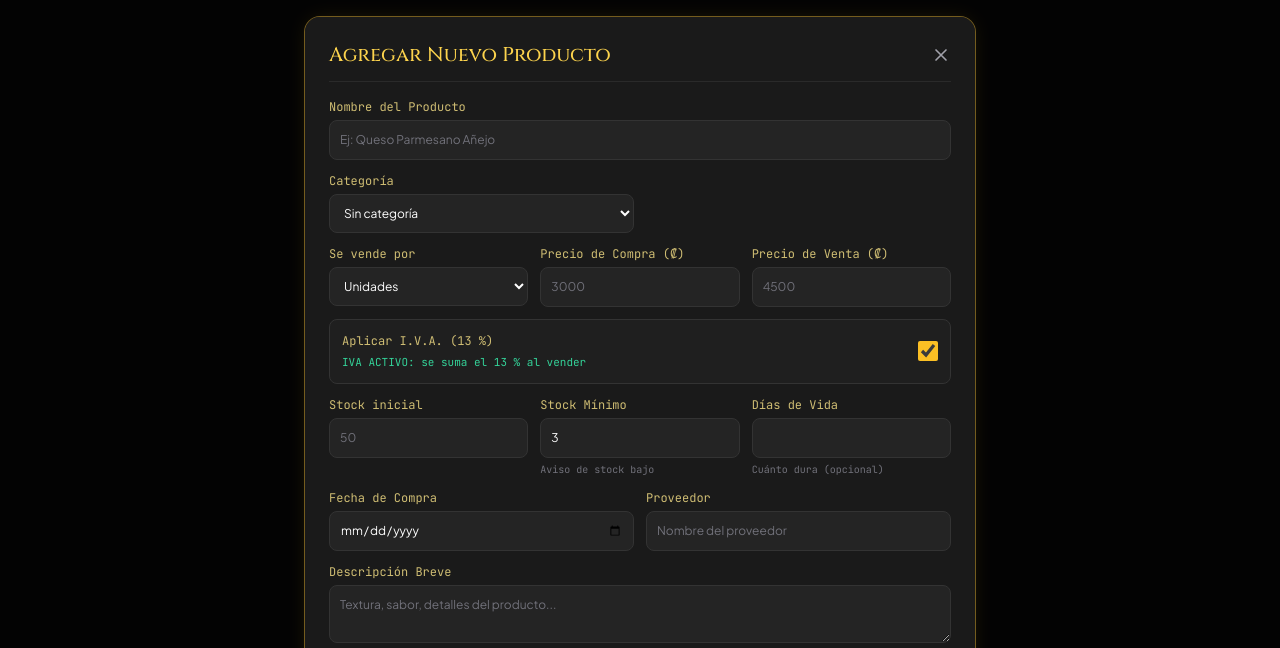
ProductModal (IVA, categorías y unidades) › permite activar/desactivar IVA y abrir "Agregar nueva categoría"
Expected: the text with test id "estado-iva" shows "IVA ACTIVO", x1=342 y1=355 x2=586 y2=369
Click the switch labelled "Aplicar I.V.A. (13 %)".
click(928, 351)  # box x1=918 y1=341 x2=938 y2=361
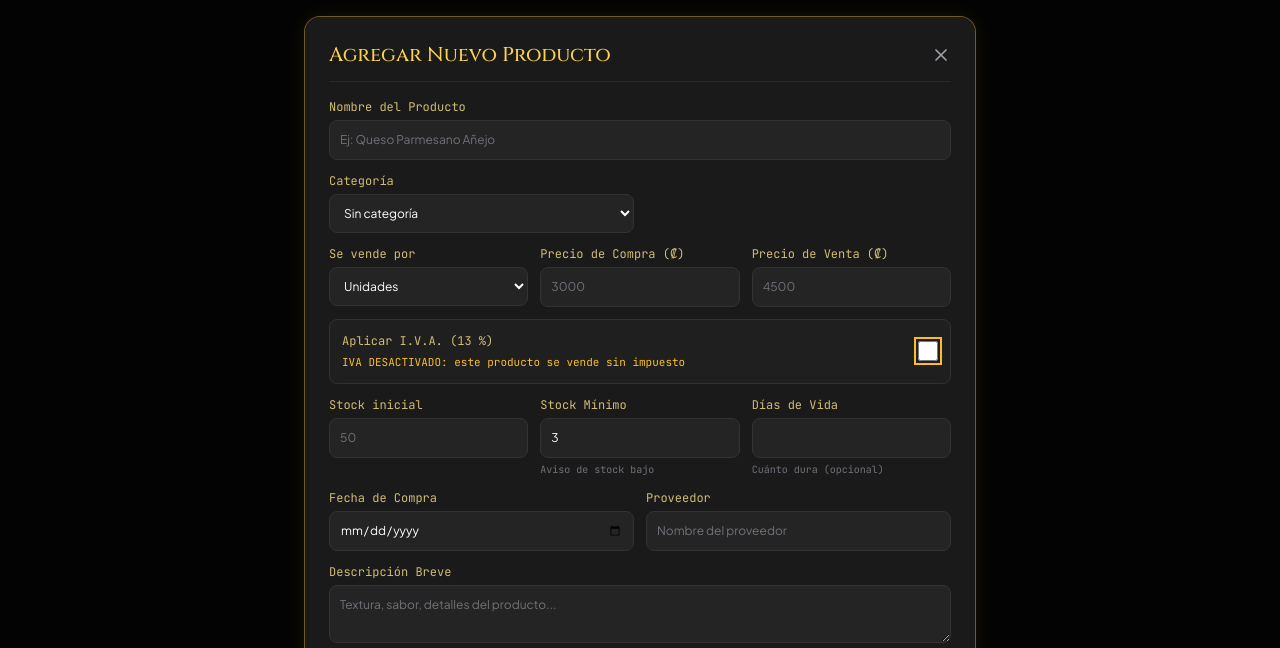
Expected: the switch labelled "Aplicar I.V.A. (13 %)" is not checked, x1=918 y1=341 x2=938 y2=361
Expected: the text with test id "estado-iva" shows "IVA DESACTIVADO", x1=342 y1=355 x2=685 y2=369
Select "+ Agregar nueva categoría" in the dropdown labelled "Categoría" at (482, 214), box x1=329 y1=194 x2=634 y2=233
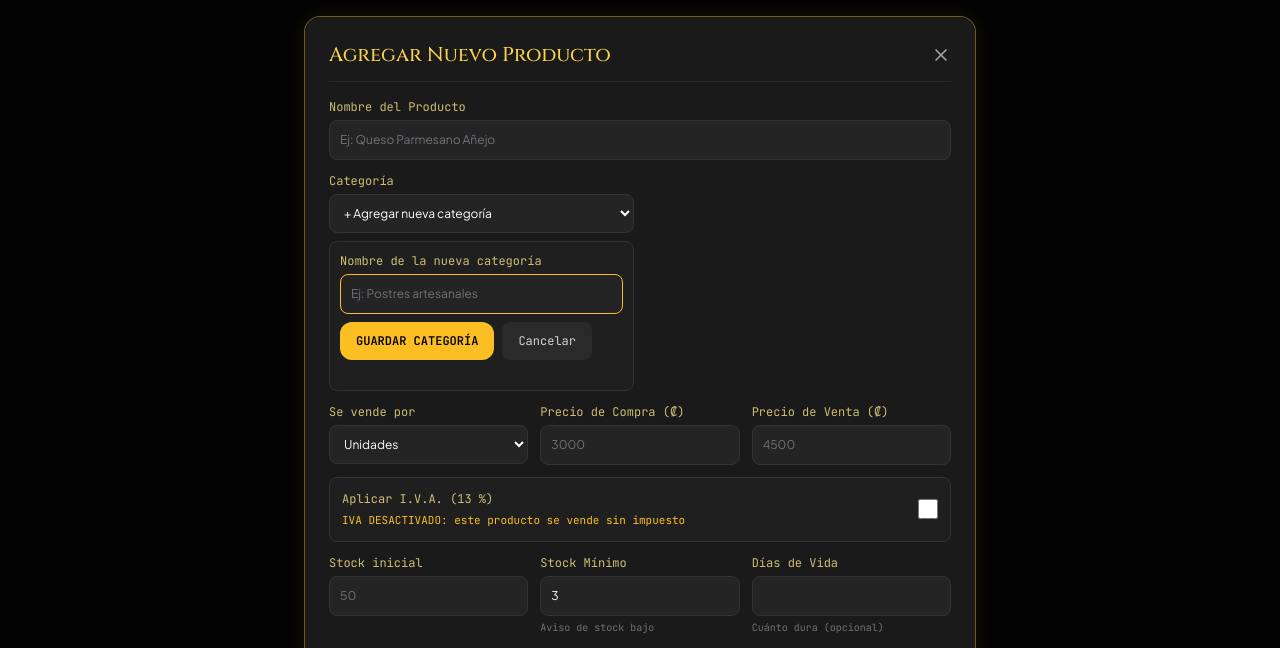
Expected: the dropdown labelled "Se vende por" shows "Unidades", x1=329 y1=425 x2=528 y2=464
Expected: the element with test id "nueva-categoria" is shown, x1=329 y1=241 x2=634 y2=391
